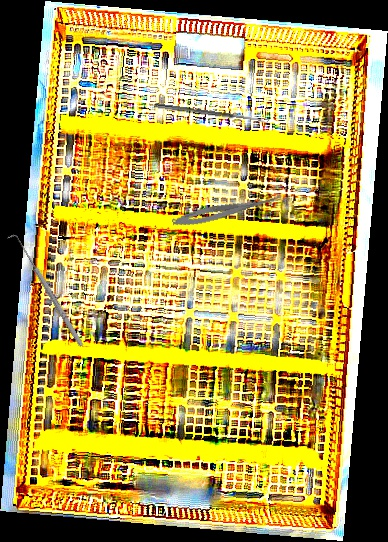Hook Surgical: (6, 230, 86, 351)
Micro Scissor: (170, 188, 285, 231)
Surgical Spoon: (154, 103, 269, 124)
